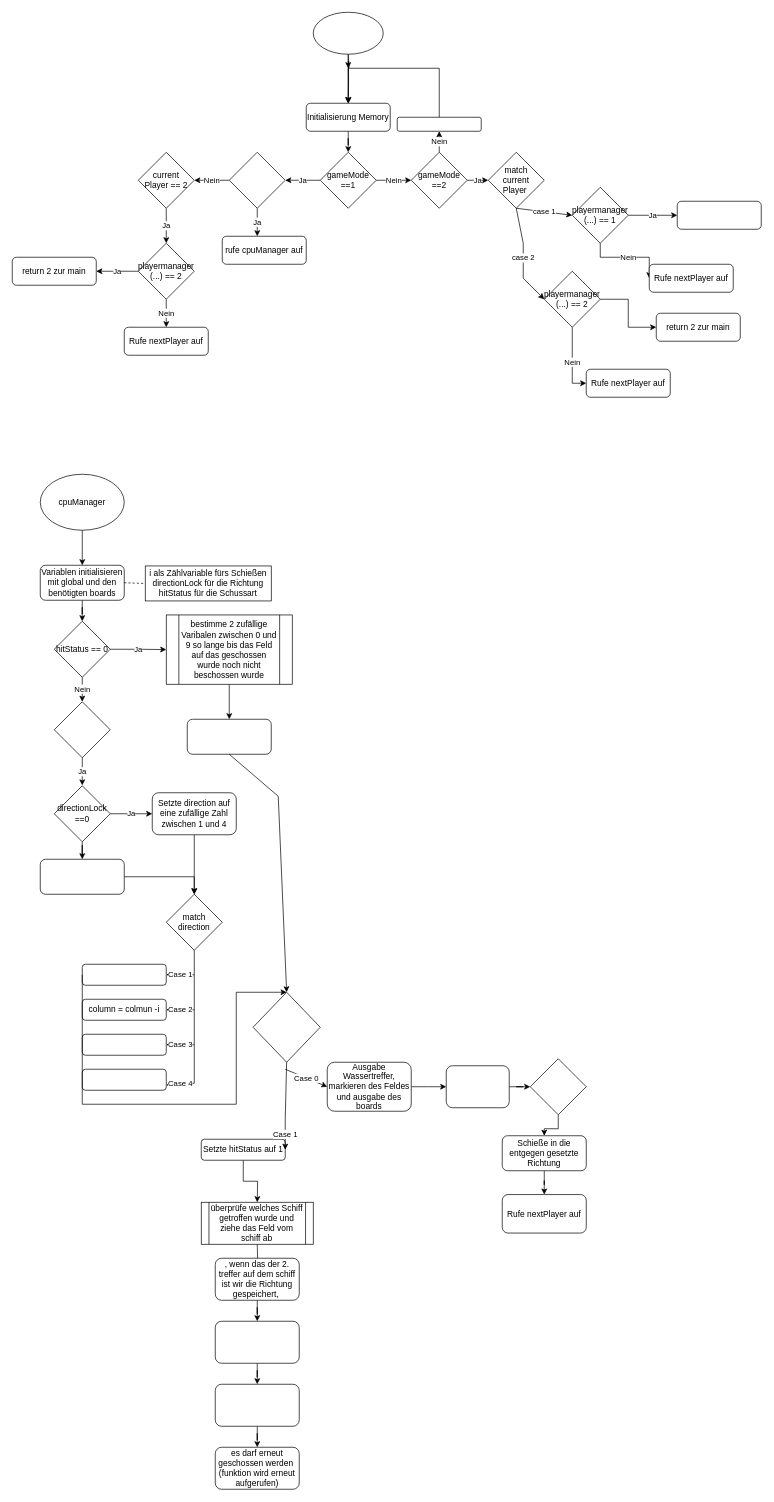
Image size: 774x1502. Some labels were removed from this diagram. The centre of each missing label's shape, as x and y in pixels:
colmun = column + i: pixel 124 1079
current Player == 1: pixel 257 180
directionLock != 0: pixel 558 1086
hitStatus == 1: pixel 82 729
hitStatus und directionLock werden zurückgesetzt: pixel 257 1405
kann nicht passieren: pixel 439 124
match leaked board [row][column]: pixel 286 1027
return 1 zur main: pixel 719 215
row = row + i: pixel 124 1044
row = row - i: pixel 124 974
setze shooting-Repeater auf False und i auf 0: pixel 477 1086
Setzte Direction auf dorection Lock: pixel 82 876
shootingfunktion: pixel 348 33
Speichere die Position des Schusses: pixel 229 736
wenn das Schiff versenkt ist werden alle Felder auf "Versenkt" geändert: pixel 257 1342
